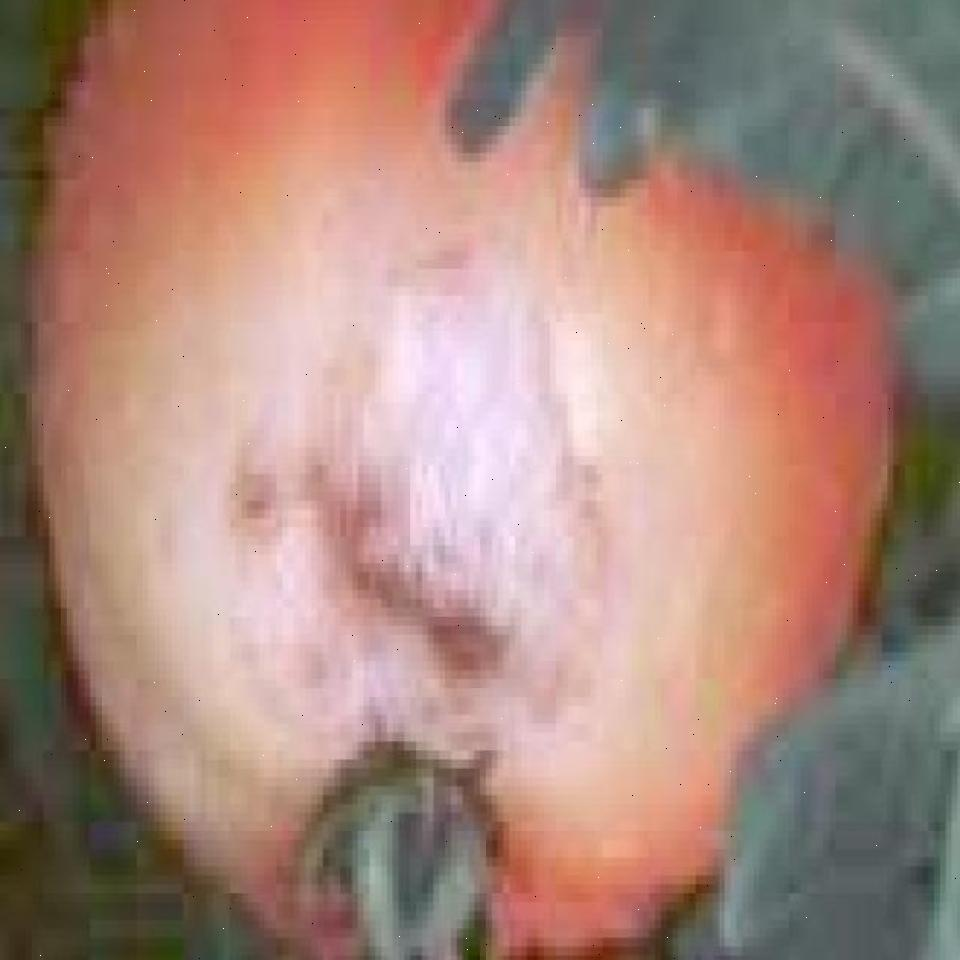Sunscald: (125, 210, 730, 818)
